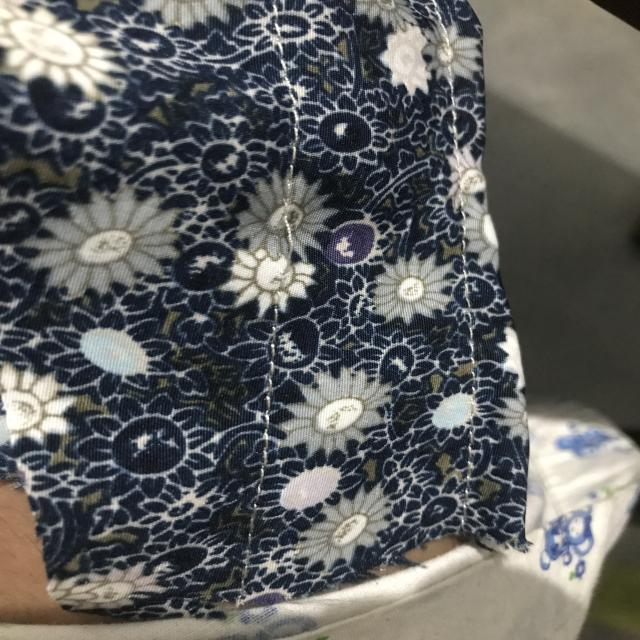skip: (268, 196, 307, 300)
